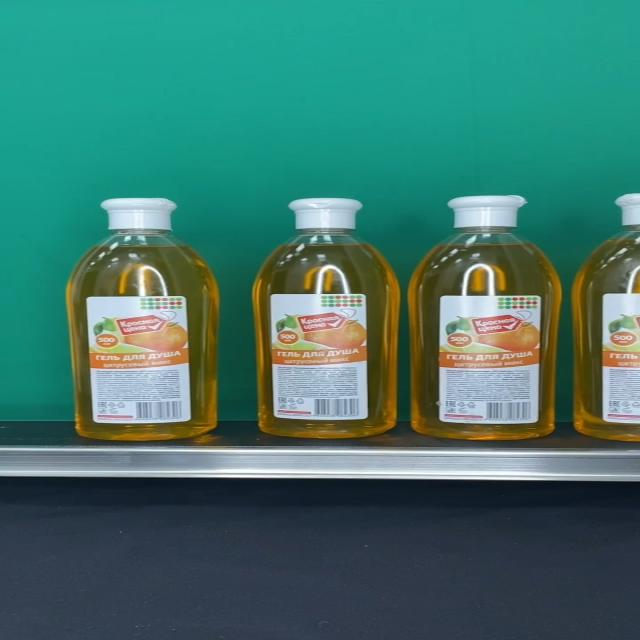Bottle: (407, 196, 563, 440), (68, 197, 221, 442), (252, 197, 401, 439)
Cap: (447, 195, 529, 229), (99, 198, 178, 230), (287, 198, 365, 230)
